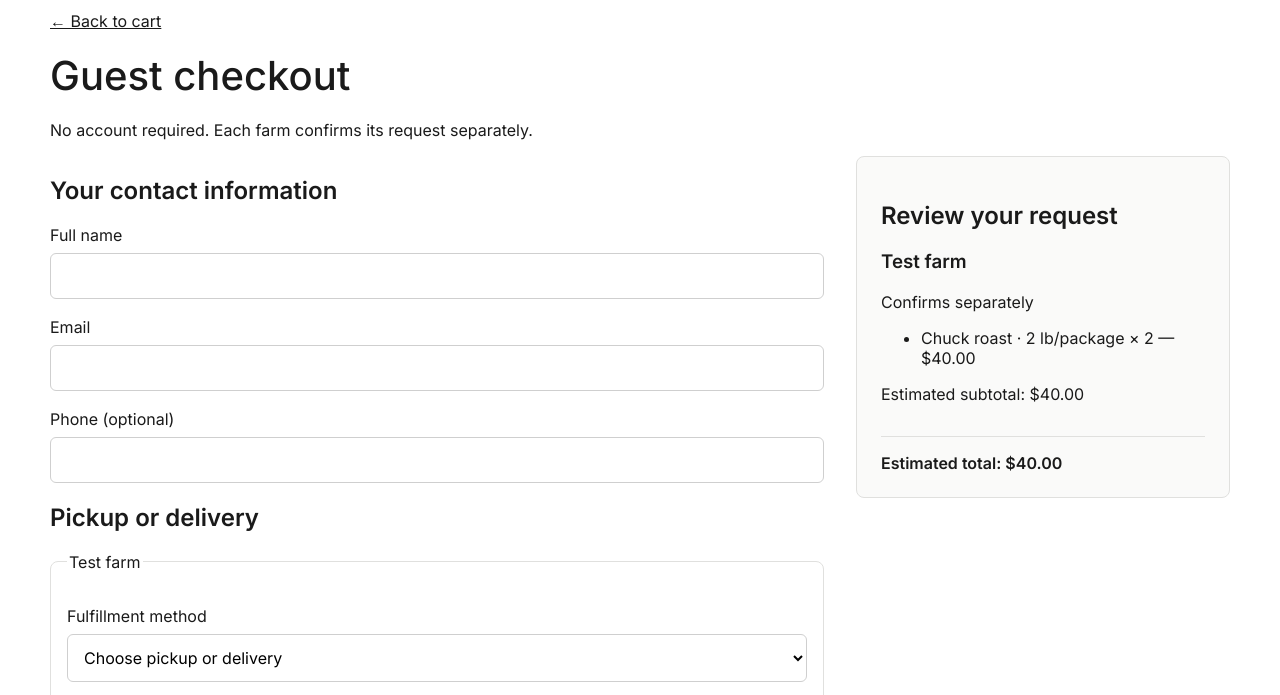
Test: shows confirmation only after successful submission and retries the identical request
In the field labelled "Full name": point(437, 276) [50, 253, 824, 299], type "Test shopper"
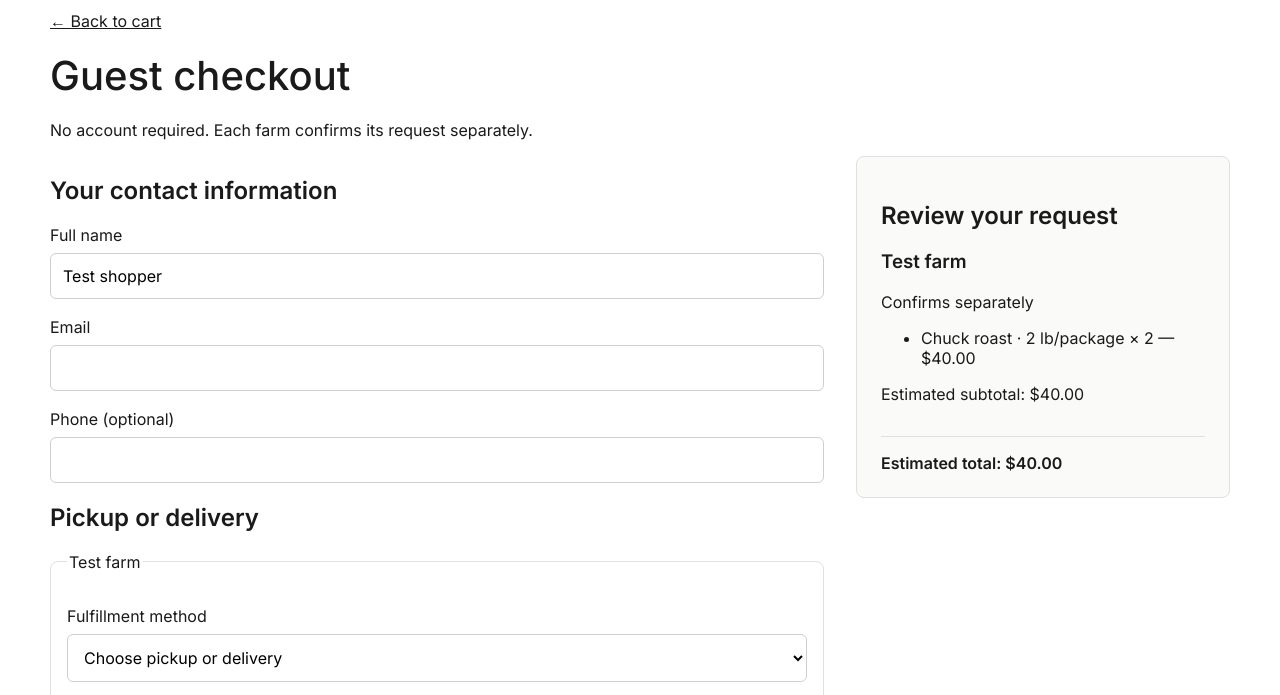
In the field labelled "Email": point(437, 368) [50, 345, 824, 391], type "test@example.com"
(page scrolled)
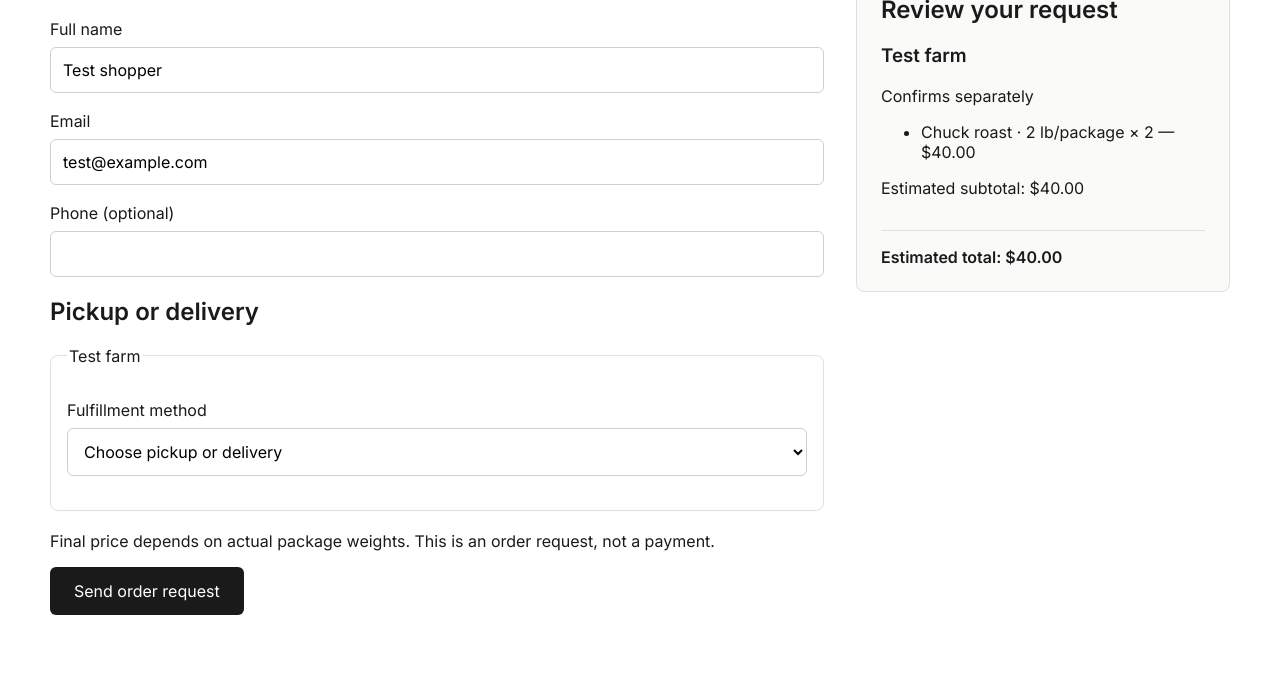
Click the button "Send order request": point(147, 591) [50, 567, 244, 615]
(page scrolled)
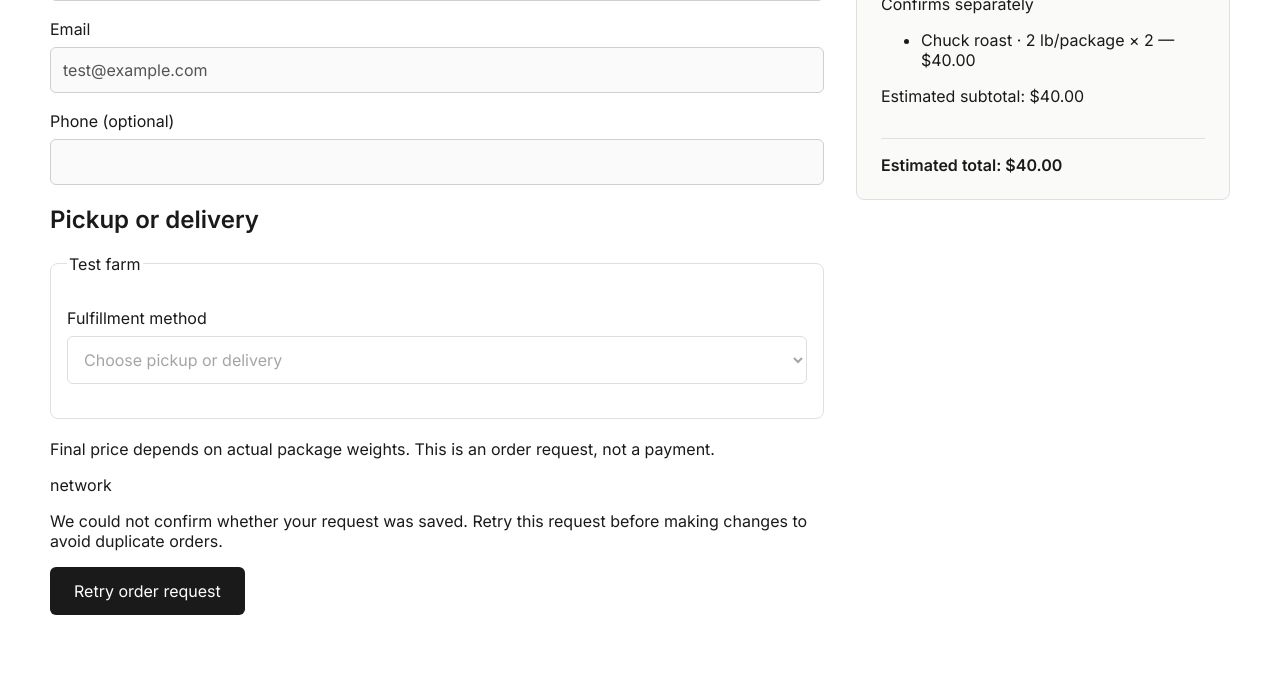
Expected: the text "Request sent" is not shown
Result: the message "network" is shown at [50, 475, 112, 495]
Result: the 2nd message shows "avoid duplicate orders" at [50, 511, 807, 551]
Click the button "Retry order request": point(147, 591) [50, 567, 245, 615]
(page scrolled)
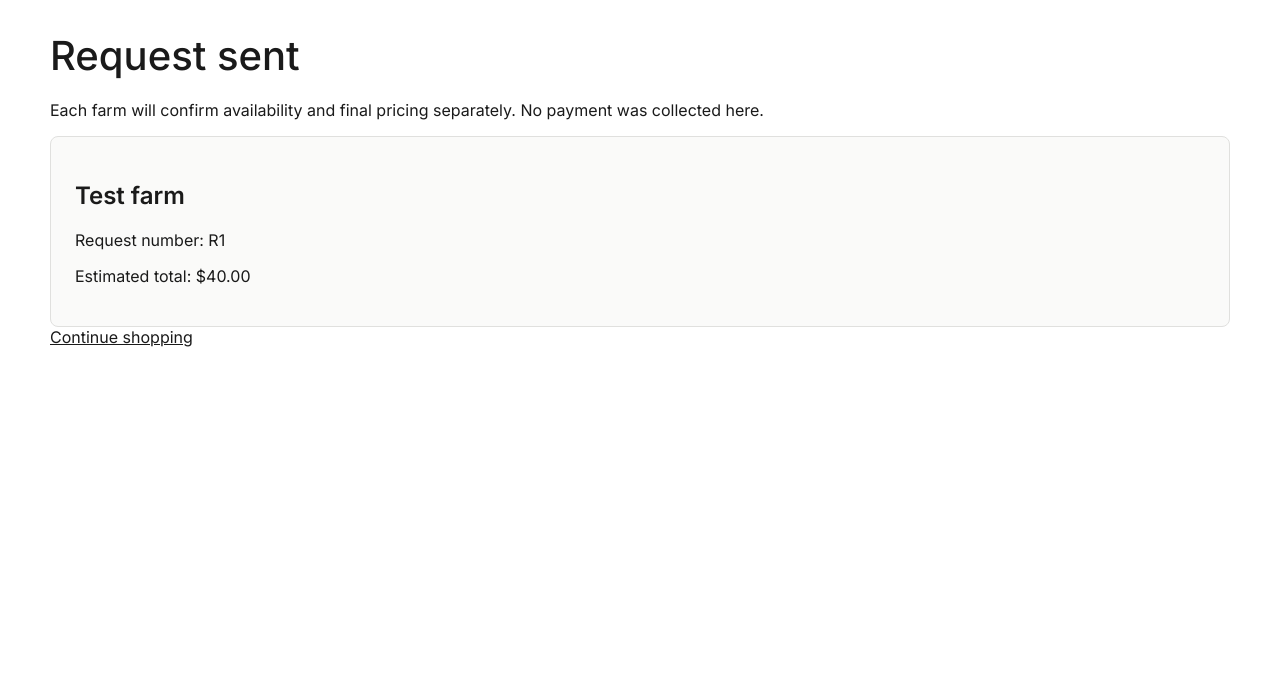
Result: the heading "Request sent" is shown at [50, 31, 300, 80]
